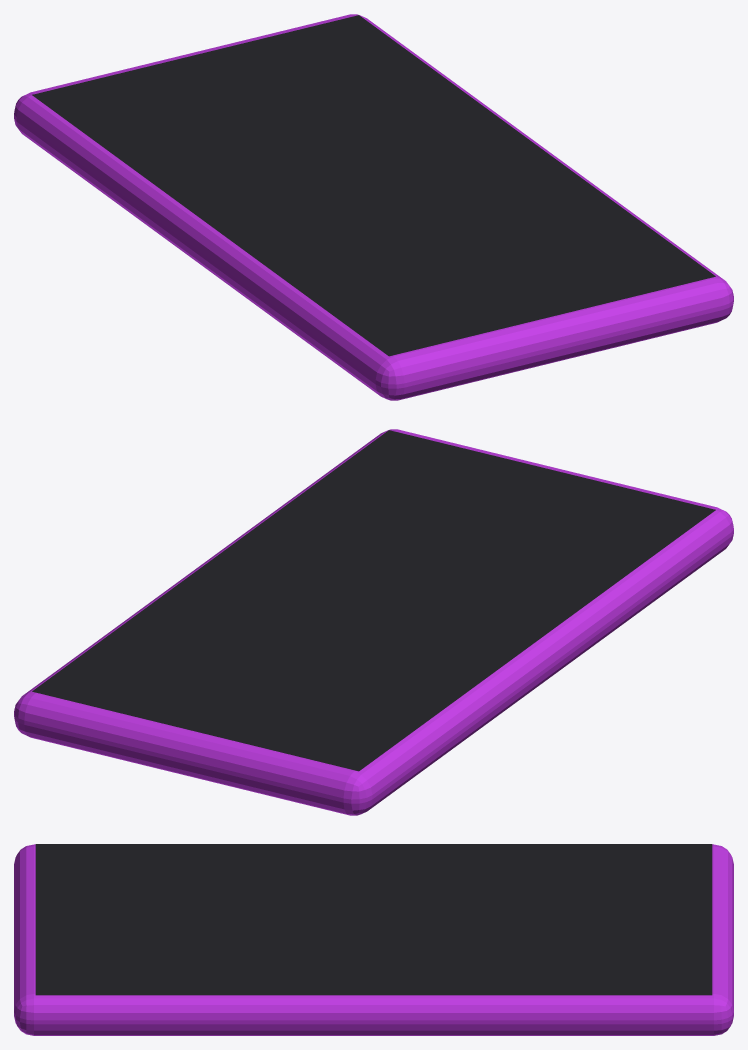
Rendered from Phone_421.glb.
The picture shows the model from 3 angles, top to bottom: view 1: azimuth 30°, elevation 25°; view 2: azimuth 150°, elevation 25°; view 3: azimuth 270°, elevation 25°; orthographic projection. The views are drawn at different scales.
Parts seen in each view (by area): view 1: Phone_Screen, Phone_Body; view 2: Phone_Screen, Phone_Body; view 3: Phone_Screen, Phone_Body.
Boxes of the visible parts, x1,y1,x2,y2 form: Phone_Screen: (32,15,715,356); Phone_Body: (14,14,733,400); Phone_Screen: (32,430,715,771); Phone_Body: (14,429,733,815); Phone_Screen: (35,844,712,995); Phone_Body: (14,844,733,1035).
Bounding box in the file's own units: 0.0796 × 0.0092 × 0.1473.
